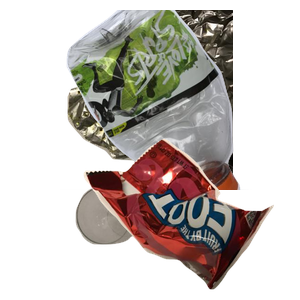glass: (73, 184, 214, 300)
metal: (60, 10, 300, 190)
plastic: (64, 10, 300, 190)
trash: (81, 136, 300, 300)
